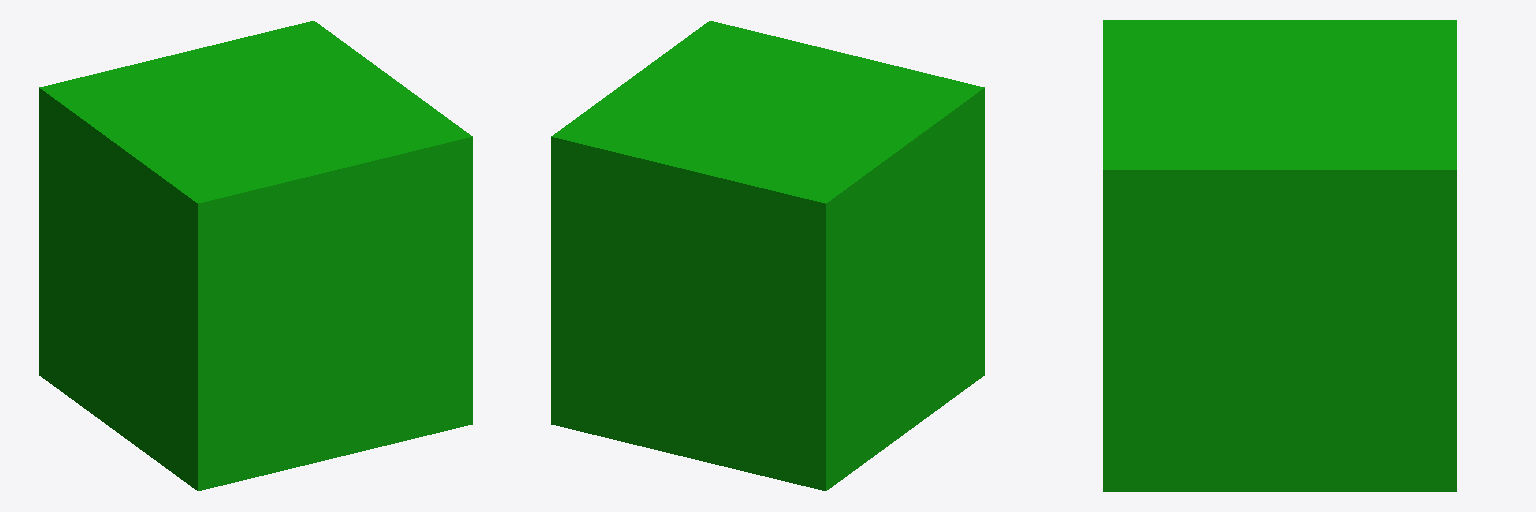
URDF robot description (block_2):
<?xml version="1.0"?>
<robot name="block_2">
  <link name="block_2_base_link">
    <contact>
      <lateral_friction value="1.0"/>
      <spinning_friction value=".001"/>
    </contact>
    <inertial>
      <origin rpy="0 0 0" xyz="0 0 0"/>
      <mass value="1"/>
      <inertia ixx="1" ixy="0" ixz="0" iyy="1" iyz="0" izz="1"/>
    </inertial>
    <visual>
      <origin rpy="0 0 0" xyz="0.0 0.0 0.0"/>
      <geometry>
        <box size="0.3 0.3 0.3"/>
      </geometry>
      <material name="blockmat">
        <color rgba="0.1 0.7 0.1 1"/>
      </material>
    </visual>
    <collision>
      <origin rpy="0 0 0" xyz="0.0 0.0 0.0"/>
      <geometry>
        <box size="0.3 0.3 0.3"/>
      </geometry>
    </collision>
  </link>
</robot>

--- What the picture shows (computed from the rendered views, not written in the file) ---
The picture shows the robot from 3 angles, left to right: view 1: azimuth 30°, elevation 25°; view 2: azimuth 150°, elevation 25°; view 3: azimuth 270°, elevation 25°; orthographic projection.
Robot: block_2 — 1 links, 0 joints (none); root link block_2_base_link; default pose: every joint at zero.
Links seen in each view (by area): view 1: block_2_base_link; view 2: block_2_base_link; view 3: block_2_base_link.
Link boxes in pixels (x1=…): block_2_base_link: x1=39, y1=21, x2=472, y2=490; block_2_base_link: x1=551, y1=21, x2=984, y2=490; block_2_base_link: x1=1103, y1=20, x2=1456, y2=491.
Size in the robot's own frame: 0.3 by 0.3 by 0.3 metres.
Geometry: primitives only (box / cylinder / sphere), no mesh files.